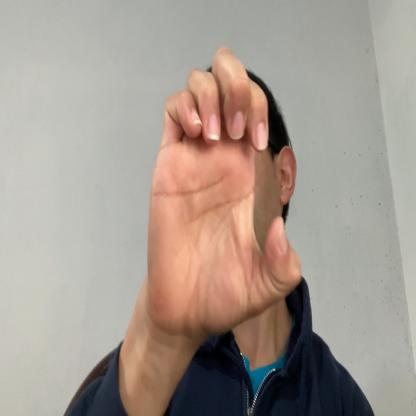E: (146, 46, 301, 332)
